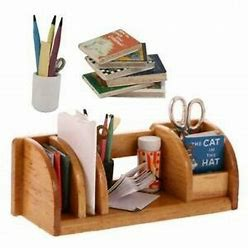pen: (45, 10, 63, 80), (30, 17, 41, 73), (107, 111, 118, 165), (102, 107, 108, 161)
